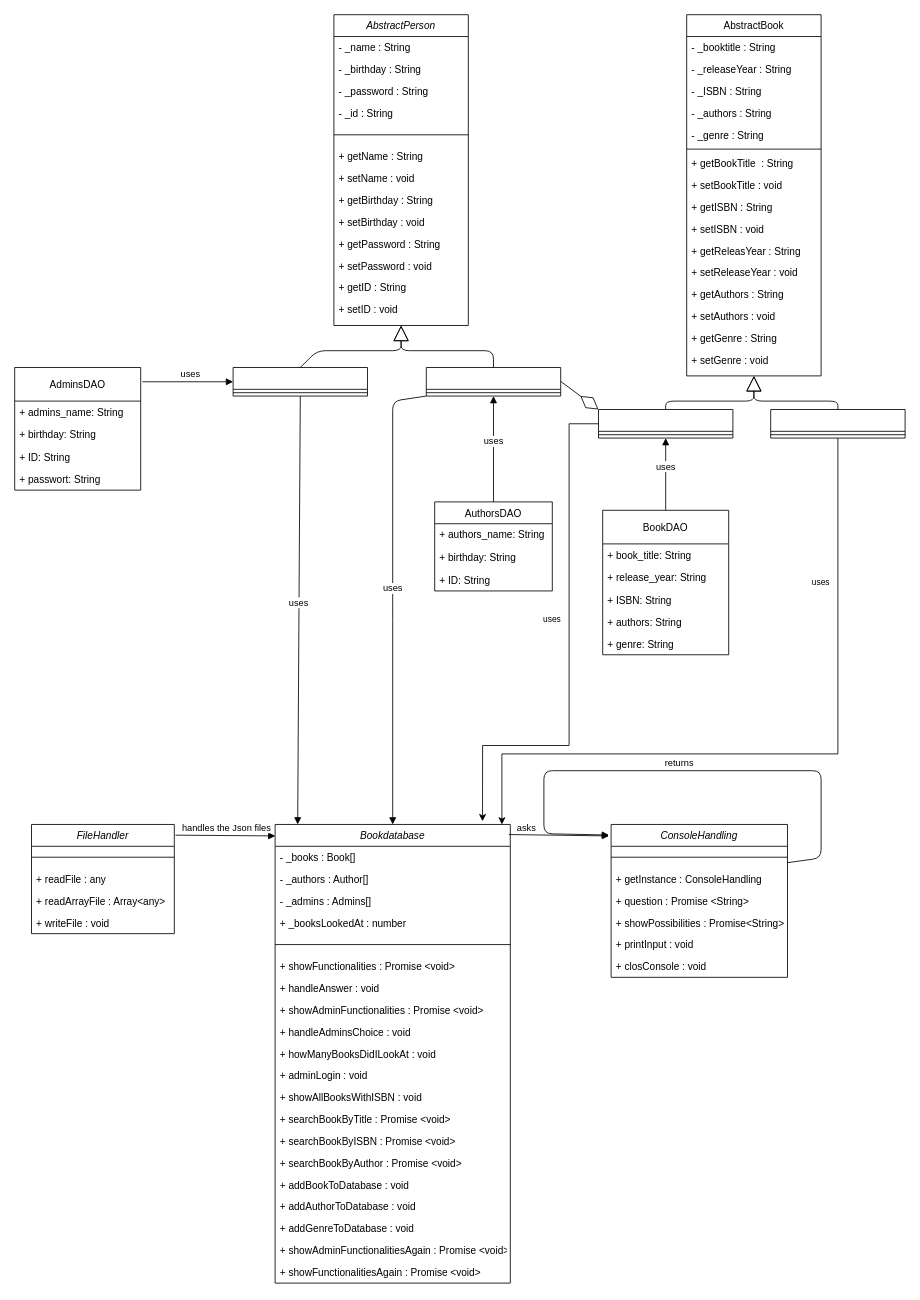
The diagram is 920 pixels wide and 1300 high, and some of its shapes have lost their labels. The shapes that lost their labels are listed below. From the top down, each one's centre as x and y in pixels, then its label:
At [300,381]: "Admins".
At [493,381]: "Authors".
At [665,423]: "Book".
At [837,423]: "Nullbook".
